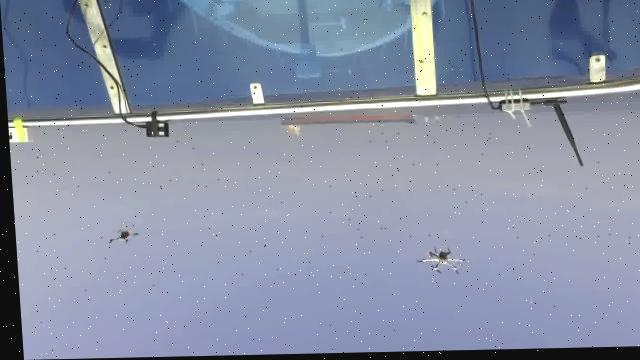drone: (411, 249, 461, 281), (103, 227, 136, 247)
